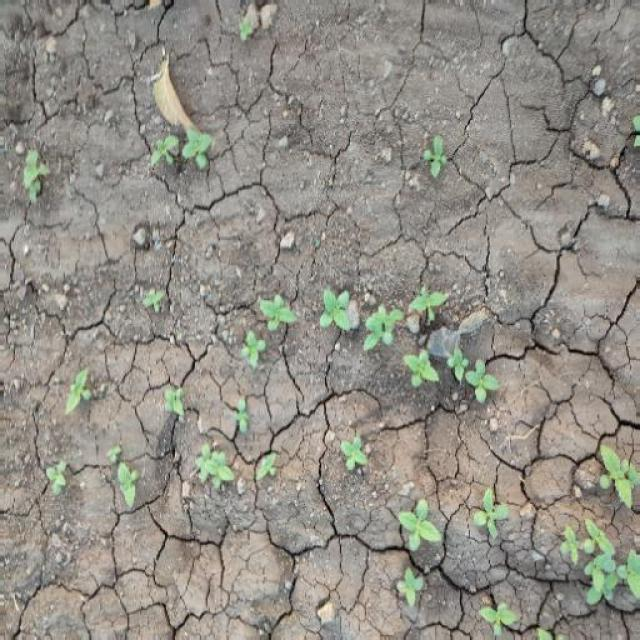crop: (311, 273, 510, 405), (362, 287, 507, 408), (379, 484, 520, 564), (537, 505, 640, 614), (34, 440, 148, 519), (186, 435, 296, 503), (234, 289, 300, 381), (131, 129, 221, 175), (17, 135, 58, 225), (58, 355, 110, 424), (412, 125, 466, 190), (145, 380, 197, 419)
